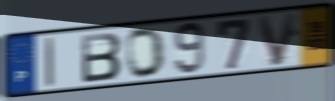7: (214, 17, 252, 72)
9: (172, 19, 208, 78)
B: (79, 30, 124, 85)
I: (44, 35, 57, 89)
O: (124, 26, 167, 80)
V: (254, 10, 301, 69)
